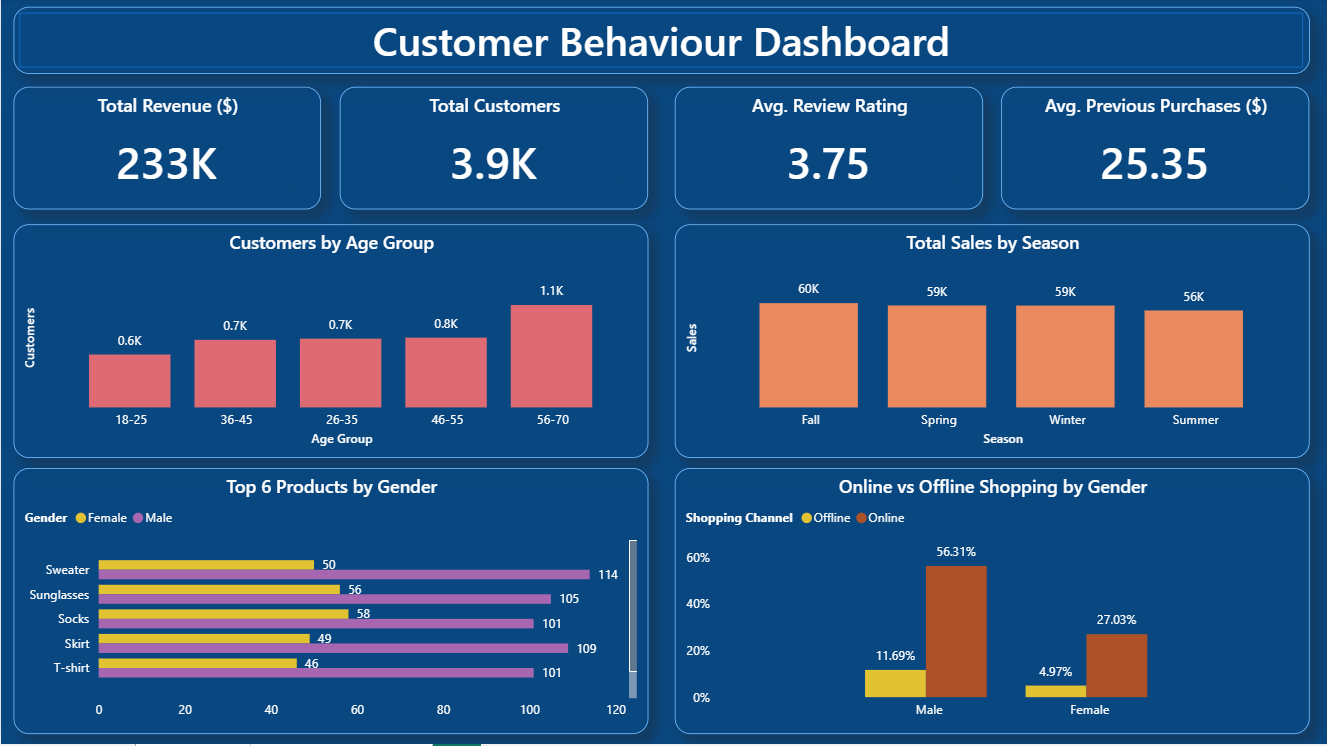

What the dashboard file says about the page in this screenshot:
{"tool":"powerbi","page":{"name":"Overview","canvas":[1280,720],"ordinal":0},"visuals":[{"type":"cardVisual","title":"Total Revenue ($)","fields":{"Data":["Sum(cleaned_customer_data.Purchase Amount (USD))"]},"box":[12.1,85.7,296.8,118.2],"z":0},{"type":"shape","box":[12.1,8.4,1251.1,65.1],"z":1000},{"type":"clusteredColumnChart","title":" Customers by Age Group","fields":{"Category":["cleaned_customer_data.Age Group"],"Y":["CountNonNull(cleaned_customer_data.Customer ID)"]},"box":[12.1,218.4,612.9,225.6],"z":2000},{"type":"clusteredColumnChart","title":"Total Sales by Season","fields":{"Category":["cleaned_customer_data.Season"],"Y":["Sum(cleaned_customer_data.Purchase Amount (USD))"]},"box":[650.3,218.4,612.9,225.6],"z":3000},{"type":"clusteredBarChart","title":"Top 6 Products by Gender","fields":{"Category":["cleaned_customer_data.Item Purchased"],"Series":["cleaned_customer_data.Gender"],"Y":["CountNonNull(cleaned_customer_data.Customer ID)"]},"box":[12.1,453.6,612.9,257],"z":4000},{"type":"clusteredColumnChart","title":"Online vs Offline Shopping by Gender","fields":{"Category":["cleaned_customer_data.Gender"],"Series":["cleaned_customer_data.Shopping Channel"],"Y":["CountNonNull(cleaned_customer_data.Customer ID)"]},"box":[650.3,453.6,612.9,257],"z":5000},{"type":"cardVisual","title":"Total Customers","fields":{"Data":["CountNonNull(cleaned_customer_data.Customer ID)"]},"box":[326.9,85.7,298,118.2],"z":6000},{"type":"cardVisual","title":"Avg. Review Rating","fields":{"Data":["Avg(cleaned_customer_data.Review Rating)"]},"box":[650.3,85.7,298,118.2],"z":7000},{"type":"cardVisual","title":"Avg. Previous Purchases ($)","fields":{"Data":["Avg(cleaned_customer_data.Previous Purchases)"]},"box":[965.2,85.7,298,118.2],"z":8000}]}

Visuals, with their boxes in screenshot pixels (x1, y1, x2, y2), scaled from the page's 1280x720 canvas onto the 1327x746 screenshot:
"Total Revenue ($)" cardVisual: bbox(13, 89, 320, 211)
shape: bbox(13, 9, 1310, 76)
" Customers by Age Group" clusteredColumnChart: bbox(13, 226, 648, 460)
"Total Sales by Season" clusteredColumnChart: bbox(674, 226, 1310, 460)
"Top 6 Products by Gender" clusteredBarChart: bbox(13, 470, 648, 736)
"Online vs Offline Shopping by Gender" clusteredColumnChart: bbox(674, 470, 1310, 736)
"Total Customers" cardVisual: bbox(339, 89, 648, 211)
"Avg. Review Rating" cardVisual: bbox(674, 89, 983, 211)
"Avg. Previous Purchases ($)" cardVisual: bbox(1001, 89, 1310, 211)
